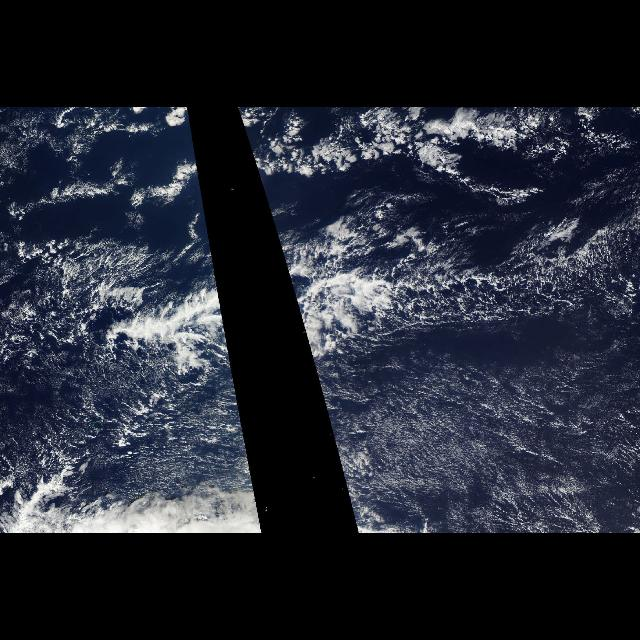Fish: (276, 234, 630, 370), (98, 234, 234, 370)
Gravel: (2, 232, 176, 456), (349, 210, 635, 346)
Sugar: (316, 321, 640, 533), (21, 377, 263, 533)
